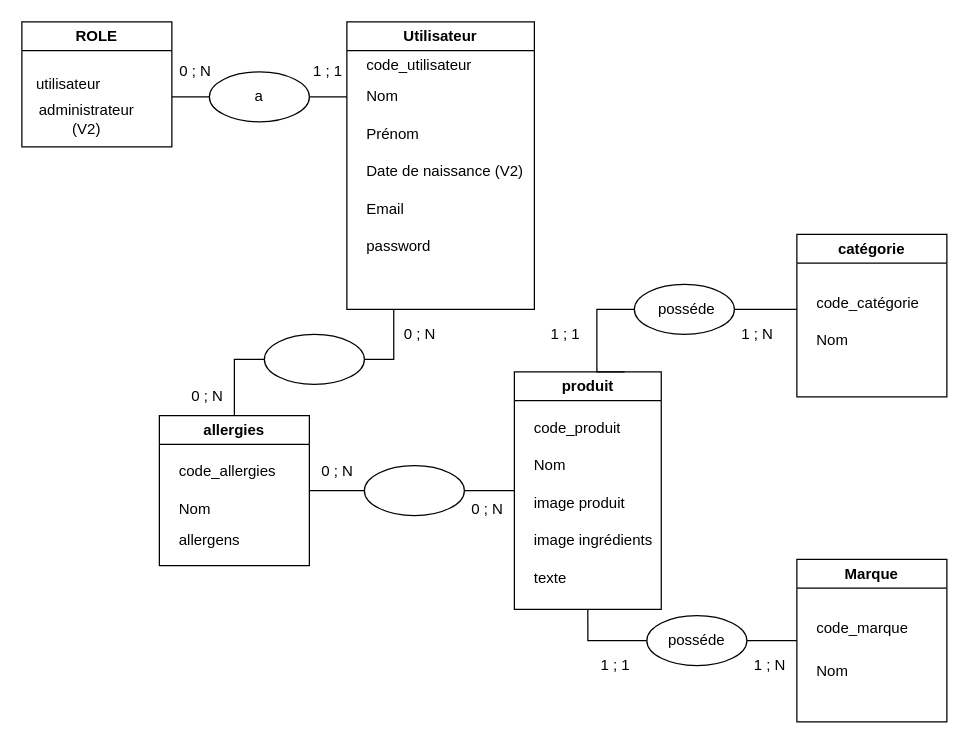
Some shapes in this 969 by 744 pixel diagram are drawn without their labels. Here are the shapes that lost their labels. From the top down, the centre of each, then its label:
At pixel 313 358: "déclare".
At pixel 413 490: "contient".
